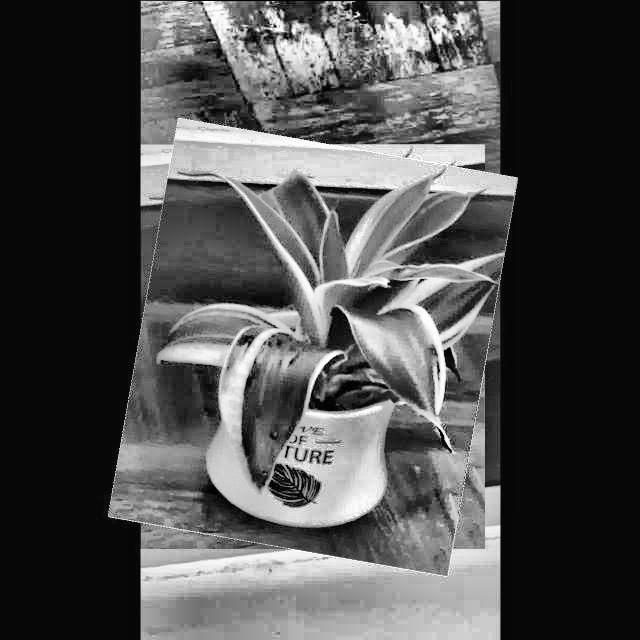plants: (124, 130, 502, 562)
